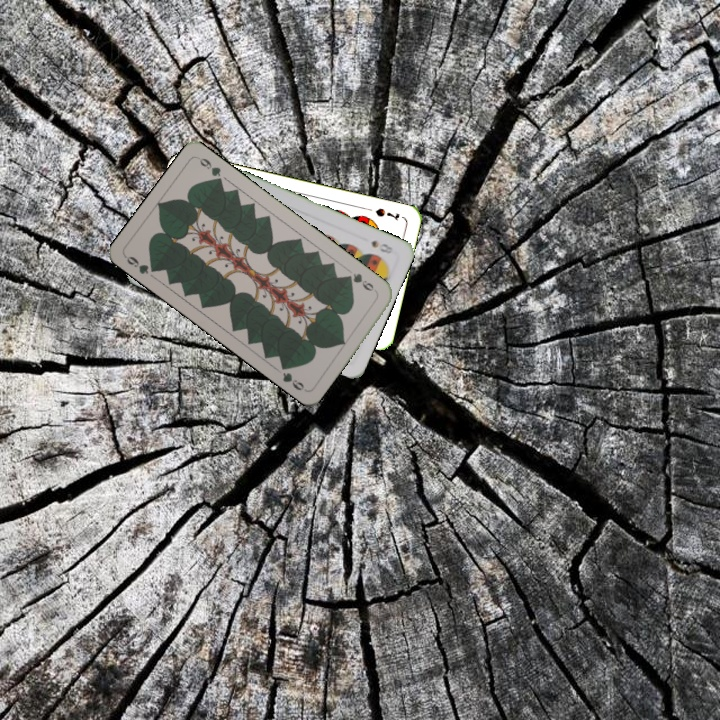G9: (342, 269, 380, 296), (121, 252, 161, 277)
S7: (371, 204, 402, 223)
S8: (367, 236, 396, 256)
